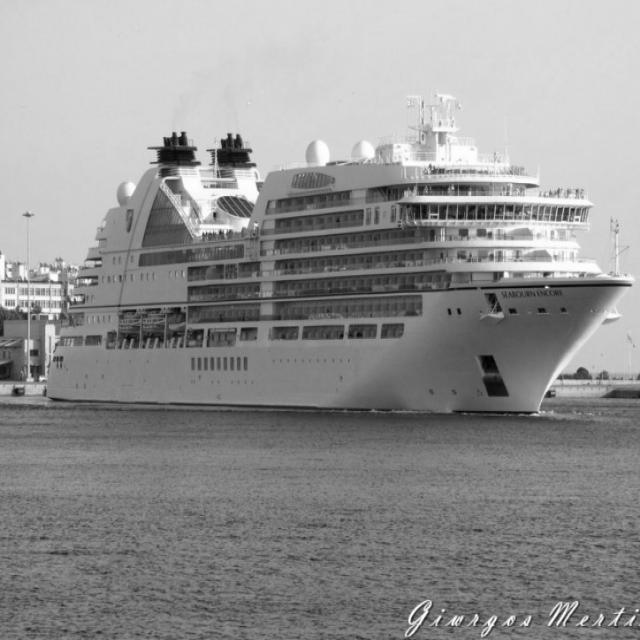cruises: (44, 87, 637, 426)
